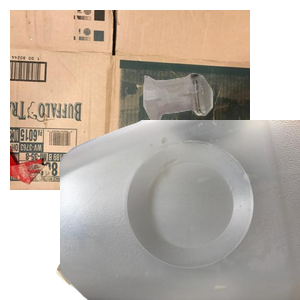cardboard: (10, 10, 250, 190)
glass: (141, 71, 300, 187)
plastic: (60, 120, 300, 300)
trash: (54, 147, 271, 300)
